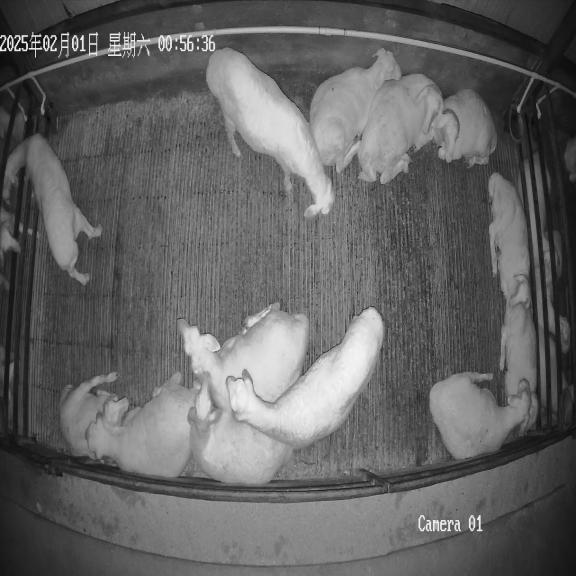lying: (179, 304, 309, 408), (187, 372, 293, 484), (88, 372, 200, 478), (309, 49, 402, 174), (357, 74, 443, 184), (429, 372, 535, 459), (59, 372, 129, 459), (500, 280, 538, 432), (488, 172, 530, 307), (433, 89, 497, 167)
stand: (226, 307, 384, 448), (206, 48, 334, 217), (3, 133, 102, 285)
